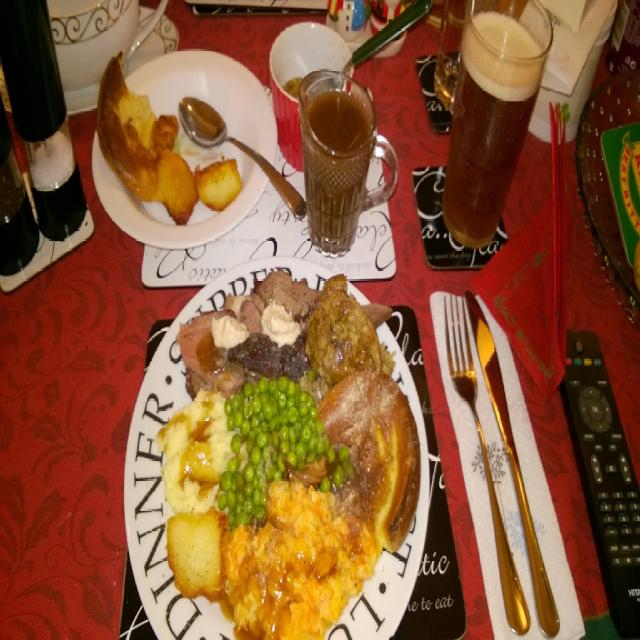Tea: (300, 88, 371, 256)
